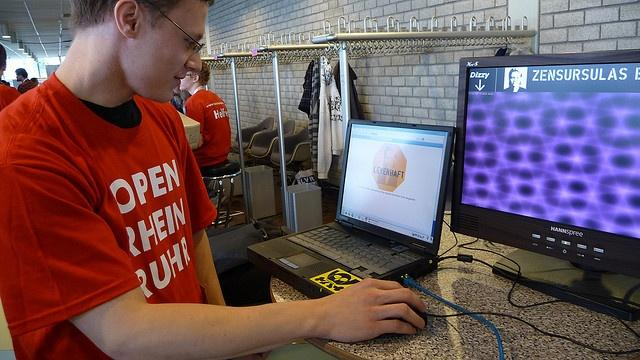AIO PC-Monitor-TV: (448, 47, 639, 279)
